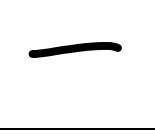minus: (29, 42, 122, 58)
